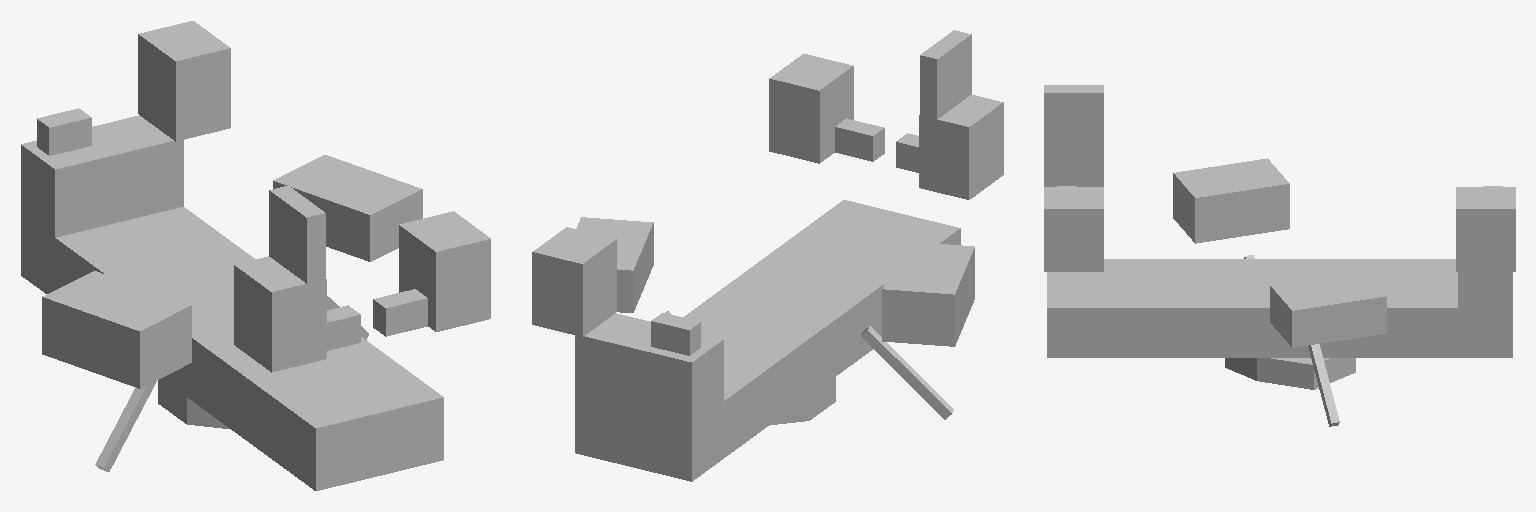
robot.urdf — g1:
<?xml version="1.0" encoding="utf-8"?>
<robot name="g1">
  <link name="gripper_base">
    <visual>
      <geometry>
        <mesh filename="package://g1/meshes/visual/L0_visual_0.stl" scale="0.001 0.001 0.001"/>
      </geometry>
      <material name="Material">
        <color rgba="0.8 0.8 0.8 1.0"/>
      </material>
    </visual>
    <visual>
      <geometry>
        <mesh filename="package://g1/meshes/visual/L0_visual_1.stl" scale="0.001 0.001 0.001"/>
      </geometry>
      <material name="Material">
        <color rgba="0.8 0.8 0.8 1.0"/>
      </material>
    </visual>
    <visual>
      <geometry>
        <mesh filename="package://g1/meshes/visual/L0_visual_2.stl" scale="0.001 0.001 0.001"/>
      </geometry>
      <material name="Material">
        <color rgba="0.8 0.8 0.8 1.0"/>
      </material>
    </visual>
    <visual>
      <geometry>
        <mesh filename="package://g1/meshes/visual/L0_visual_3.stl" scale="0.001 0.001 0.001"/>
      </geometry>
      <material name="Material">
        <color rgba="0.8 0.8 0.8 1.0"/>
      </material>
    </visual>
    <visual>
      <geometry>
        <mesh filename="package://g1/meshes/visual/L0_visual_4.stl" scale="0.001 0.001 0.001"/>
      </geometry>
      <material name="Material">
        <color rgba="0.8 0.8 0.8 1.0"/>
      </material>
    </visual>
    <visual>
      <geometry>
        <mesh filename="package://g1/meshes/visual/L0_visual_5.stl" scale="0.001 0.001 0.001"/>
      </geometry>
      <material name="Material">
        <color rgba="0.8 0.8 0.8 1.0"/>
      </material>
    </visual>
    <visual>
      <geometry>
        <mesh filename="package://g1/meshes/visual/L0_visual_6.stl" scale="0.001 0.001 0.001"/>
      </geometry>
      <material name="Material">
        <color rgba="0.8 0.8 0.8 1.0"/>
      </material>
    </visual>
    <visual>
      <geometry>
        <mesh filename="package://g1/meshes/visual/L0_visual_7.stl" scale="0.001 0.001 0.001"/>
      </geometry>
      <material name="Material">
        <color rgba="0.8 0.8 0.8 1.0"/>
      </material>
    </visual>
    <visual>
      <geometry>
        <mesh filename="package://g1/meshes/visual/L0_visual_8.stl" scale="0.001 0.001 0.001"/>
      </geometry>
      <material name="Material">
        <color rgba="0.8 0.8 0.8 1.0"/>
      </material>
    </visual>
    <visual>
      <geometry>
        <mesh filename="package://g1/meshes/visual/L0_visual_9.stl" scale="0.001 0.001 0.001"/>
      </geometry>
      <material name="Material">
        <color rgba="0.8 0.8 0.8 1.0"/>
      </material>
    </visual>
    <visual>
      <geometry>
        <mesh filename="package://g1/meshes/visual/L0_visual_10.stl" scale="0.001 0.001 0.001"/>
      </geometry>
      <material name="Material">
        <color rgba="0.8 0.8 0.8 1.0"/>
      </material>
    </visual>
    <collision>
      <geometry>
        <mesh filename="package://g1/meshes/collision/L0_collision_0.stl" scale="0.001 0.001 0.001"/>
      </geometry>
    </collision>
    <collision>
      <geometry>
        <mesh filename="package://g1/meshes/collision/L0_collision_1.stl" scale="0.001 0.001 0.001"/>
      </geometry>
    </collision>
    <collision>
      <geometry>
        <mesh filename="package://g1/meshes/collision/L0_collision_2.stl" scale="0.001 0.001 0.001"/>
      </geometry>
    </collision>
    <collision>
      <geometry>
        <mesh filename="package://g1/meshes/collision/L0_collision_3.stl" scale="0.001 0.001 0.001"/>
      </geometry>
    </collision>
    <collision>
      <geometry>
        <mesh filename="package://g1/meshes/collision/L0_collision_4.stl" scale="0.001 0.001 0.001"/>
      </geometry>
    </collision>
    <collision>
      <geometry>
        <mesh filename="package://g1/meshes/collision/L0_collision_5.stl" scale="0.001 0.001 0.001"/>
      </geometry>
    </collision>
    <collision>
      <geometry>
        <mesh filename="package://g1/meshes/collision/L0_collision_6.stl" scale="0.001 0.001 0.001"/>
      </geometry>
    </collision>
    <collision>
      <geometry>
        <mesh filename="package://g1/meshes/collision/L0_collision_7.stl" scale="0.001 0.001 0.001"/>
      </geometry>
    </collision>
    <collision>
      <geometry>
        <mesh filename="package://g1/meshes/collision/L0_collision_8.stl" scale="0.001 0.001 0.001"/>
      </geometry>
    </collision>
    <collision>
      <geometry>
        <mesh filename="package://g1/meshes/collision/L0_collision_9.stl" scale="0.001 0.001 0.001"/>
      </geometry>
    </collision>
    <collision>
      <geometry>
        <mesh filename="package://g1/meshes/collision/L0_collision_10.stl" scale="0.001 0.001 0.001"/>
      </geometry>
    </collision>
  </link>
  <link name="gripper_jaw_l">
    <visual>
      <geometry>
        <mesh filename="package://g1/meshes/visual/L1_visual_0.stl" scale="0.001 0.001 0.001"/>
      </geometry>
      <material name="Material">
        <color rgba="0.8 0.8 0.8 1.0"/>
      </material>
    </visual>
    <visual>
      <geometry>
        <mesh filename="package://g1/meshes/visual/L1_visual_1.stl" scale="0.001 0.001 0.001"/>
      </geometry>
      <material name="Material">
        <color rgba="0.8 0.8 0.8 1.0"/>
      </material>
    </visual>
    <visual>
      <geometry>
        <mesh filename="package://g1/meshes/visual/L1_visual_2.stl" scale="0.001 0.001 0.001"/>
      </geometry>
      <material name="Material">
        <color rgba="0.8 0.8 0.8 1.0"/>
      </material>
    </visual>
    <visual>
      <geometry>
        <mesh filename="package://g1/meshes/visual/L1_visual_3.stl" scale="0.001 0.001 0.001"/>
      </geometry>
      <material name="Material">
        <color rgba="0.8 0.8 0.8 1.0"/>
      </material>
    </visual>
    <visual>
      <geometry>
        <mesh filename="package://g1/meshes/visual/L1_visual_4.stl" scale="0.001 0.001 0.001"/>
      </geometry>
      <material name="Material">
        <color rgba="0.8 0.8 0.8 1.0"/>
      </material>
    </visual>
    <visual>
      <geometry>
        <mesh filename="package://g1/meshes/visual/L1_visual_5.stl" scale="0.001 0.001 0.001"/>
      </geometry>
      <material name="Material">
        <color rgba="0.8 0.8 0.8 1.0"/>
      </material>
    </visual>
    <collision>
      <geometry>
        <mesh filename="package://g1/meshes/collision/L1_collision_0.stl" scale="0.001 0.001 0.001"/>
      </geometry>
    </collision>
    <collision>
      <geometry>
        <mesh filename="package://g1/meshes/collision/L1_collision_1.stl" scale="0.001 0.001 0.001"/>
      </geometry>
    </collision>
    <collision>
      <geometry>
        <mesh filename="package://g1/meshes/collision/L1_collision_2.stl" scale="0.001 0.001 0.001"/>
      </geometry>
    </collision>
    <collision>
      <geometry>
        <mesh filename="package://g1/meshes/collision/L1_collision_3.stl" scale="0.001 0.001 0.001"/>
      </geometry>
    </collision>
    <collision>
      <geometry>
        <mesh filename="package://g1/meshes/collision/L1_collision_4.stl" scale="0.001 0.001 0.001"/>
      </geometry>
    </collision>
    <collision>
      <geometry>
        <mesh filename="package://g1/meshes/collision/L1_collision_5.stl" scale="0.001 0.001 0.001"/>
      </geometry>
    </collision>
  </link>
  <link name="gripper_jaw_r">
    <visual>
      <geometry>
        <mesh filename="package://g1/meshes/visual/L2_visual_0.stl" scale="0.001 0.001 0.001"/>
      </geometry>
      <material name="Material">
        <color rgba="0.8 0.8 0.8 1.0"/>
      </material>
    </visual>
    <visual>
      <geometry>
        <mesh filename="package://g1/meshes/visual/L2_visual_1.stl" scale="0.001 0.001 0.001"/>
      </geometry>
      <material name="Material">
        <color rgba="0.8 0.8 0.8 1.0"/>
      </material>
    </visual>
    <visual>
      <geometry>
        <mesh filename="package://g1/meshes/visual/L2_visual_2.stl" scale="0.001 0.001 0.001"/>
      </geometry>
      <material name="Material">
        <color rgba="0.8 0.8 0.8 1.0"/>
      </material>
    </visual>
    <visual>
      <geometry>
        <mesh filename="package://g1/meshes/visual/L2_visual_3.stl" scale="0.001 0.001 0.001"/>
      </geometry>
      <material name="Material">
        <color rgba="0.8 0.8 0.8 1.0"/>
      </material>
    </visual>
    <visual>
      <geometry>
        <mesh filename="package://g1/meshes/visual/L2_visual_4.stl" scale="0.001 0.001 0.001"/>
      </geometry>
      <material name="Material">
        <color rgba="0.8 0.8 0.8 1.0"/>
      </material>
    </visual>
    <visual>
      <geometry>
        <mesh filename="package://g1/meshes/visual/L2_visual_5.stl" scale="0.001 0.001 0.001"/>
      </geometry>
      <material name="Material">
        <color rgba="0.8 0.8 0.8 1.0"/>
      </material>
    </visual>
    <collision>
      <geometry>
        <mesh filename="package://g1/meshes/collision/L2_collision_0.stl" scale="0.001 0.001 0.001"/>
      </geometry>
    </collision>
    <collision>
      <geometry>
        <mesh filename="package://g1/meshes/collision/L2_collision_1.stl" scale="0.001 0.001 0.001"/>
      </geometry>
    </collision>
    <collision>
      <geometry>
        <mesh filename="package://g1/meshes/collision/L2_collision_2.stl" scale="0.001 0.001 0.001"/>
      </geometry>
    </collision>
    <collision>
      <geometry>
        <mesh filename="package://g1/meshes/collision/L2_collision_3.stl" scale="0.001 0.001 0.001"/>
      </geometry>
    </collision>
    <collision>
      <geometry>
        <mesh filename="package://g1/meshes/collision/L2_collision_4.stl" scale="0.001 0.001 0.001"/>
      </geometry>
    </collision>
    <collision>
      <geometry>
        <mesh filename="package://g1/meshes/collision/L2_collision_5.stl" scale="0.001 0.001 0.001"/>
      </geometry>
    </collision>
  </link>
  <joint name="joint_gripper_jaw_l" type="prismatic">
    <parent link="gripper_base"/>
    <child link="gripper_jaw_l"/>
    <axis xyz="1.0 0.0 0.0"/>
    <limit effort="0.0" lower="0.0008" upper="0.01" velocity="0.0"/>
    <origin rpy="0.0 0.0 0.0" xyz="0.0 0.0 0.0"/>
  </joint>
  <joint name="joint_gripper_jaw_r" type="prismatic">
    <parent link="gripper_base"/>
    <child link="gripper_jaw_r"/>
    <axis xyz="-1.0 -0.0 -0.0"/>
    <limit effort="0.0" lower="0.0008" upper="0.01" velocity="0.0"/>
    <origin rpy="0.0 0.0 0.0" xyz="0.0 0.0 0.0"/>
  </joint>
</robot>

--- Render facts (derived) ---
The picture shows the robot from 3 angles, left to right: view 1: azimuth 30°, elevation 25°; view 2: azimuth 150°, elevation 25°; view 3: azimuth 270°, elevation 25°; orthographic projection.
Robot: g1 — 3 links, 2 joints (2 prismatic); root link gripper_base; default pose: all joints at 0 but 2 set to mid-range because 0 is outside their limits (joint_gripper_jaw_l = 0.0054, joint_gripper_jaw_r = 0.0054).
Visible links, largest first — view 1: gripper_base, gripper_jaw_l, gripper_jaw_r; view 2: gripper_base, gripper_jaw_l, gripper_jaw_r; view 3: gripper_base, gripper_jaw_l, gripper_jaw_r.
Boxes of the visible links, x1=… form: gripper_base: x1=21, y1=115, x2=443, y2=490; gripper_jaw_l: x1=138, y1=21, x2=490, y2=336; gripper_jaw_r: x1=37, y1=108, x2=360, y2=372; gripper_base: x1=575, y1=200, x2=974, y2=481; gripper_jaw_l: x1=532, y1=54, x2=884, y2=336; gripper_jaw_r: x1=651, y1=30, x2=1003, y2=355; gripper_base: x1=1047, y1=158, x2=1512, y2=426; gripper_jaw_l: x1=1044, y1=187, x2=1515, y2=271; gripper_jaw_r: x1=1044, y1=85, x2=1502, y2=186.
Bounding box of the posed robot: 0.3947 × 0.515 × 0.3015 m (x, y, z).
15 mesh visuals loaded from 23 distinct referenced files (15 binary STL); not drawn: 8 (reference not matched to a file when rendering).